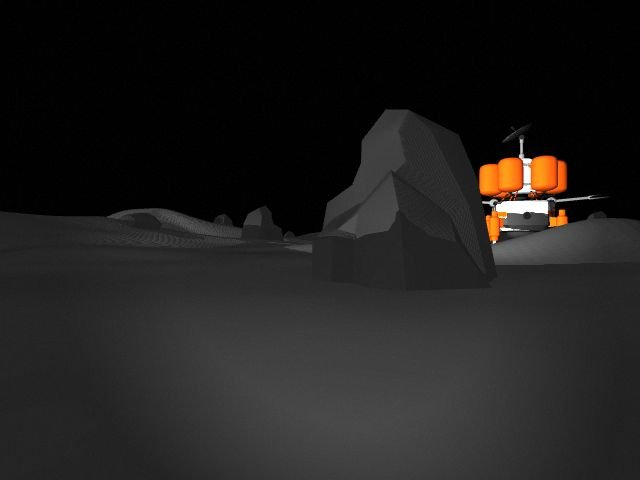homebase: (441, 115, 614, 254)
